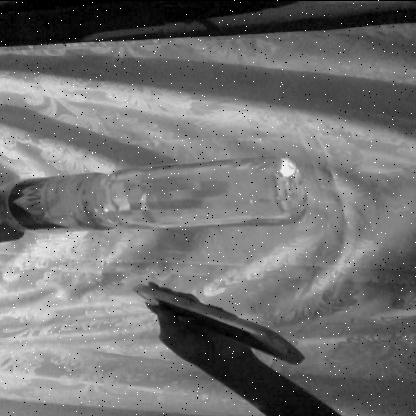Plastic Bottle: (3, 152, 303, 230)
